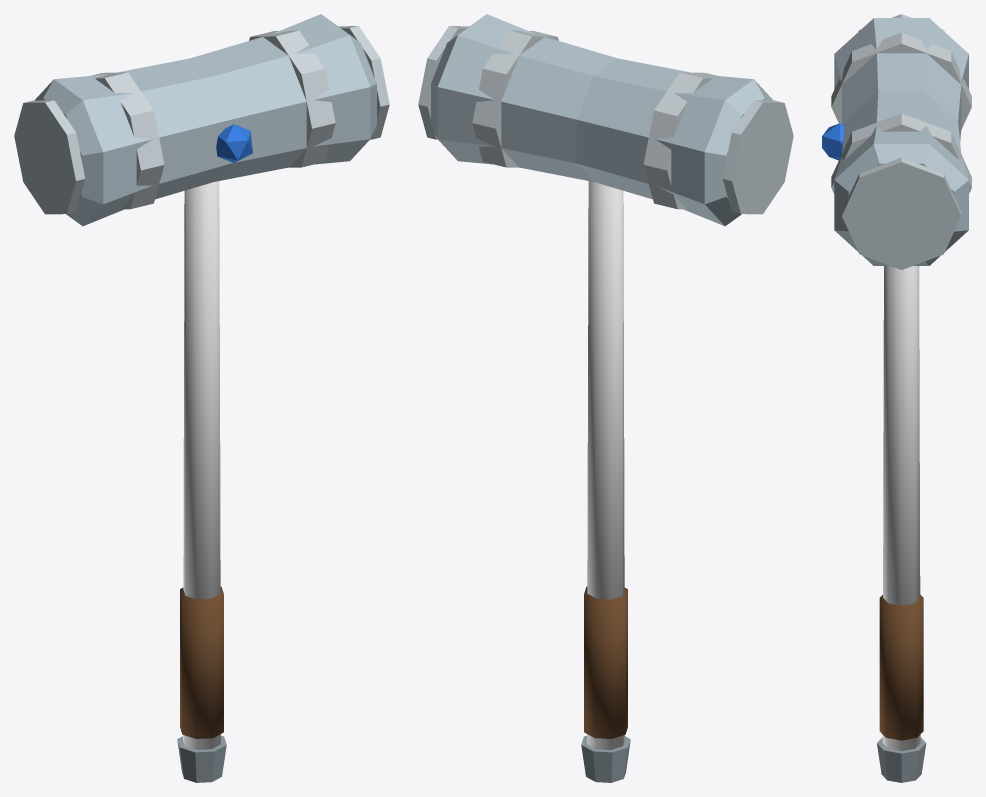
File: platinum_hammer.glb
The picture shows the model from 3 angles, left to right: view 1: azimuth 30°, elevation 25°; view 2: azimuth 150°, elevation 25°; view 3: azimuth 270°, elevation 25°; orthographic projection. The views are drawn at different scales.
Parts seen in each view (by area): view 1: platinum_hammer_v0; view 2: platinum_hammer_v0; view 3: platinum_hammer_v0.
Boxes of the visible parts, x1,y1,x2,y2 form: platinum_hammer_v0: [14, 14, 389, 782]; platinum_hammer_v0: [418, 14, 793, 782]; platinum_hammer_v0: [822, 14, 971, 782].
Size of the model in its own units: 0.404 by 0.886 by 0.1727.
